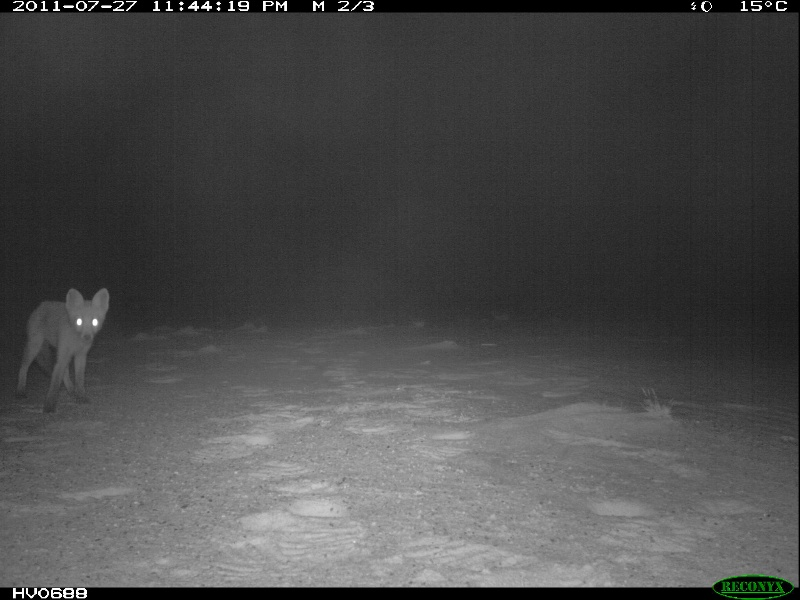fox: (12, 284, 115, 416)
